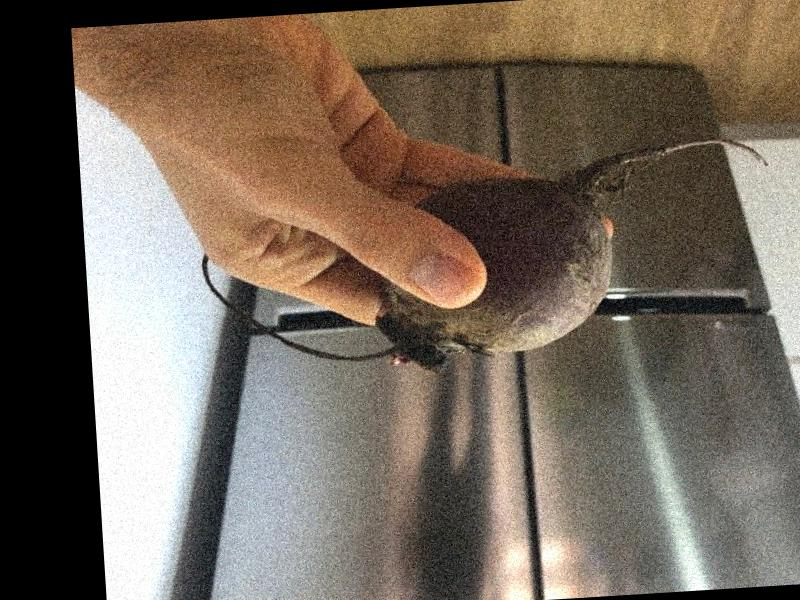Beet: (196, 133, 783, 381)
